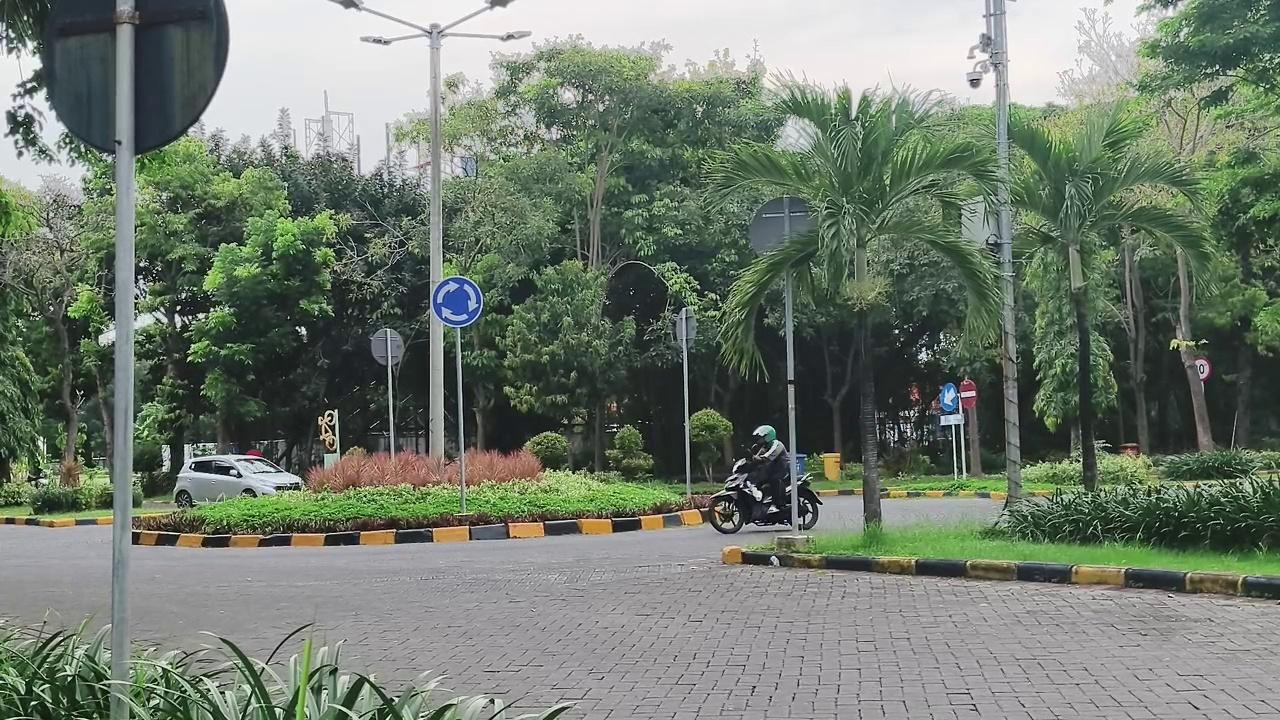Helmet: (748, 425, 789, 510)
Motor: (709, 459, 791, 533)
